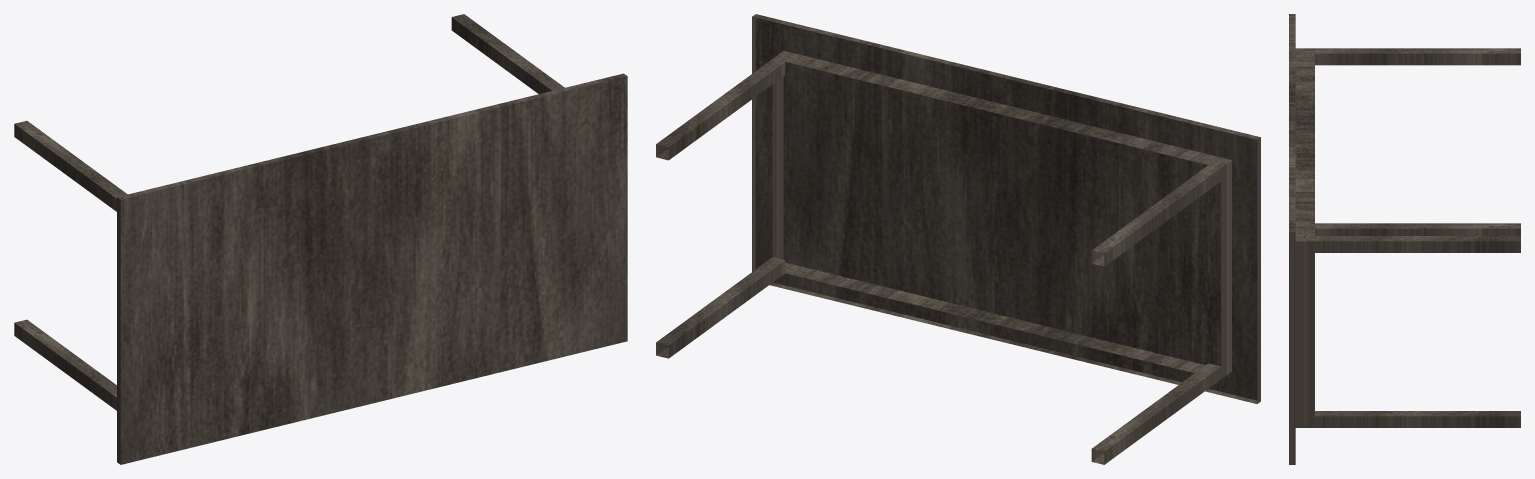
Rendered from table50_wtf.obj.
3 renders of one model, left to right at view 1: azimuth 30°, elevation 25°; view 2: azimuth 150°, elevation 25°; view 3: azimuth 270°, elevation 25°, orthographic. The views are drawn at different scales.
Parts seen in each view (by area): view 1: group4, group5; view 2: group4, group5; view 3: group5.
Part boxes in pixels (x1,y1,x2,y2): group4: (120, 76, 627, 464); group5: (14, 14, 626, 464); group4: (755, 17, 1257, 400); group5: (656, 14, 1260, 464); group5: (1289, 14, 1520, 464).
Size of the model in its own units: 660 by 330 by 297.
